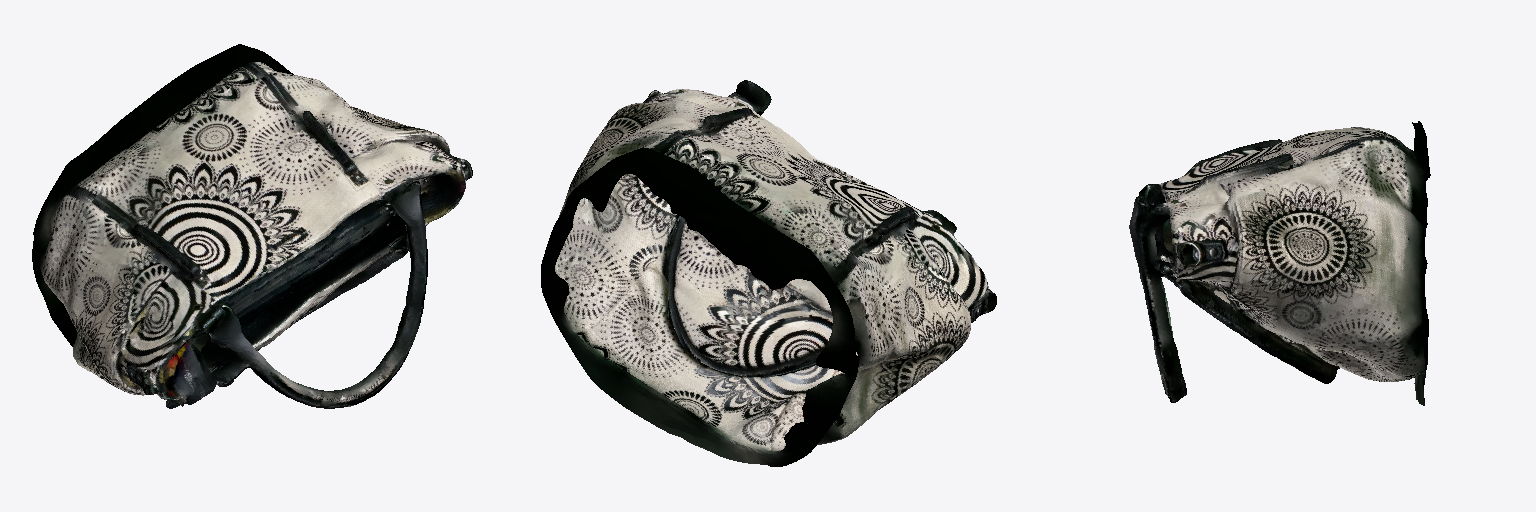
3 renders of one model, left to right at view 1: azimuth 30°, elevation 25°; view 2: azimuth 150°, elevation 25°; view 3: azimuth 270°, elevation 25°, orthographic.
Size of the model in its own units: 0.7663 by 0.616 by 0.5706.
1 materials, 1 textured.